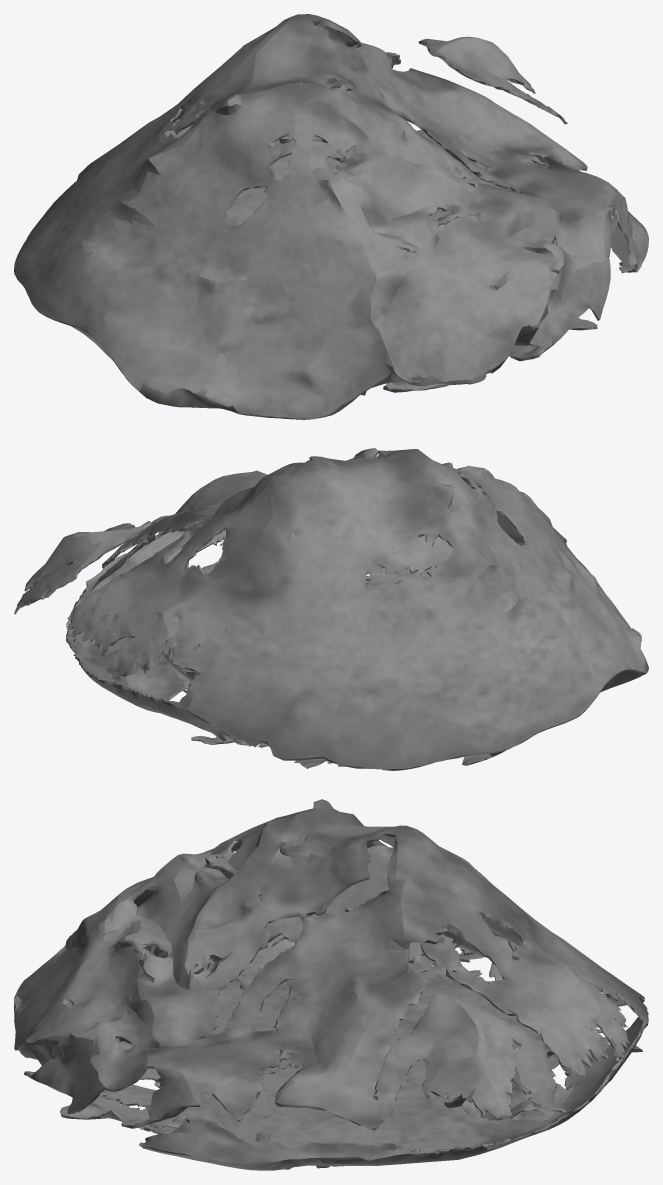
The picture shows the model from 3 angles, top to bottom: view 1: azimuth 30°, elevation 25°; view 2: azimuth 150°, elevation 25°; view 3: azimuth 270°, elevation 25°; orthographic projection. The views are drawn at different scales.
Parts seen in each view (by area): view 1: world; view 2: world; view 3: world.
Part boxes in pixels (x1=…): world: x1=14, y1=14, x2=648, y2=419; world: x1=14, y1=448, x2=648, y2=770; world: x1=14, y1=799, x2=648, y2=1170.
Size of the model in its own units: 0.45 by 0.1945 by 0.4523.
Materials: 1 (1 with a texture image).
